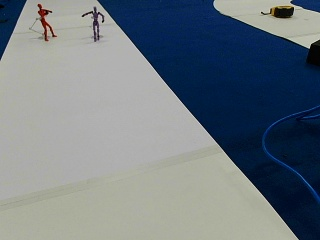pedestrian: (81, 5, 104, 40), (36, 3, 56, 40)
